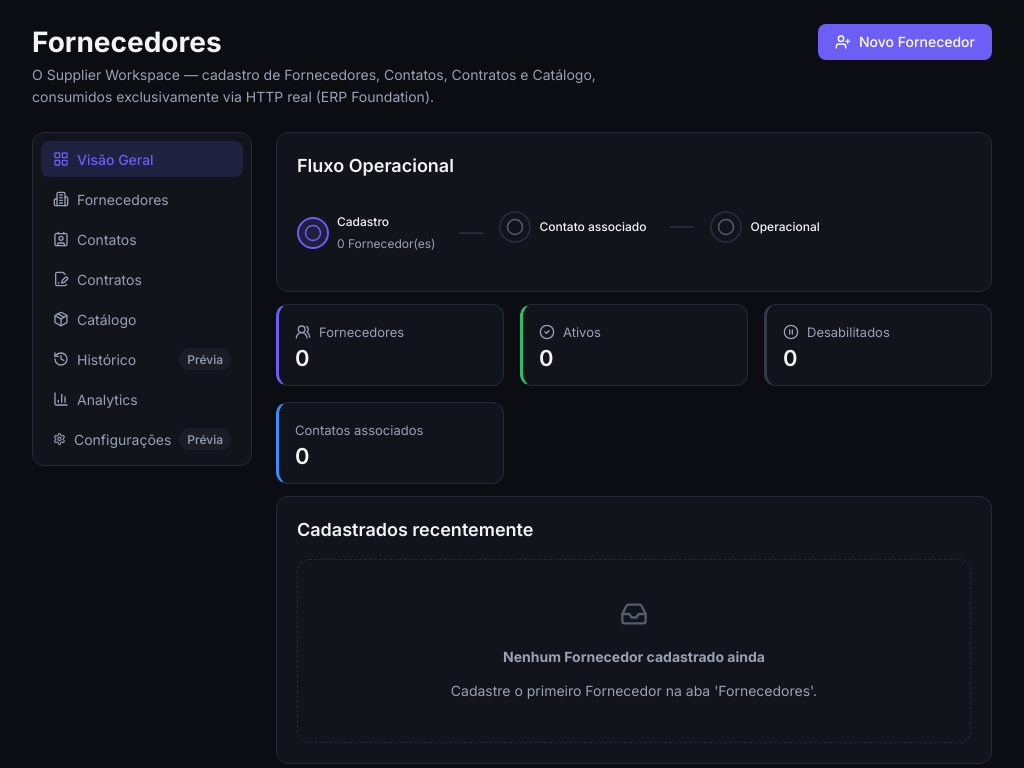
Test: SupplierPage — Supplier Workspace por seções (IMP-205) › associa um Contato real a um Fornecedor — aparece na aba Contatos
This screenshot has width=1024, height=768.
Expected: the button "Visão Geral" is shown, [41,141,243,177]
Click the button "Novo Fornecedor": (905, 42) [818,24,992,60]
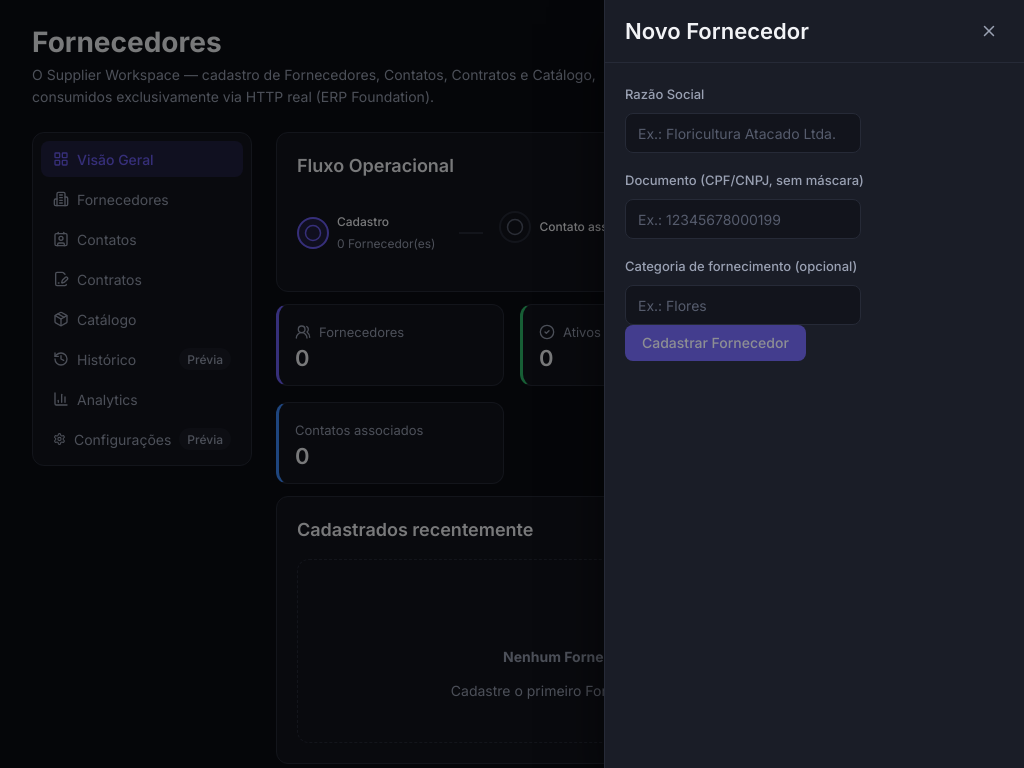
In the field labelled "Razão Social": (743, 133) [625,113,861,153], type "Floricultura Atacado Ltda."
In the field labelled "Documento (CPF/CNPJ, sem máscara)": (743, 219) [625,199,861,239], type "12345678000199"
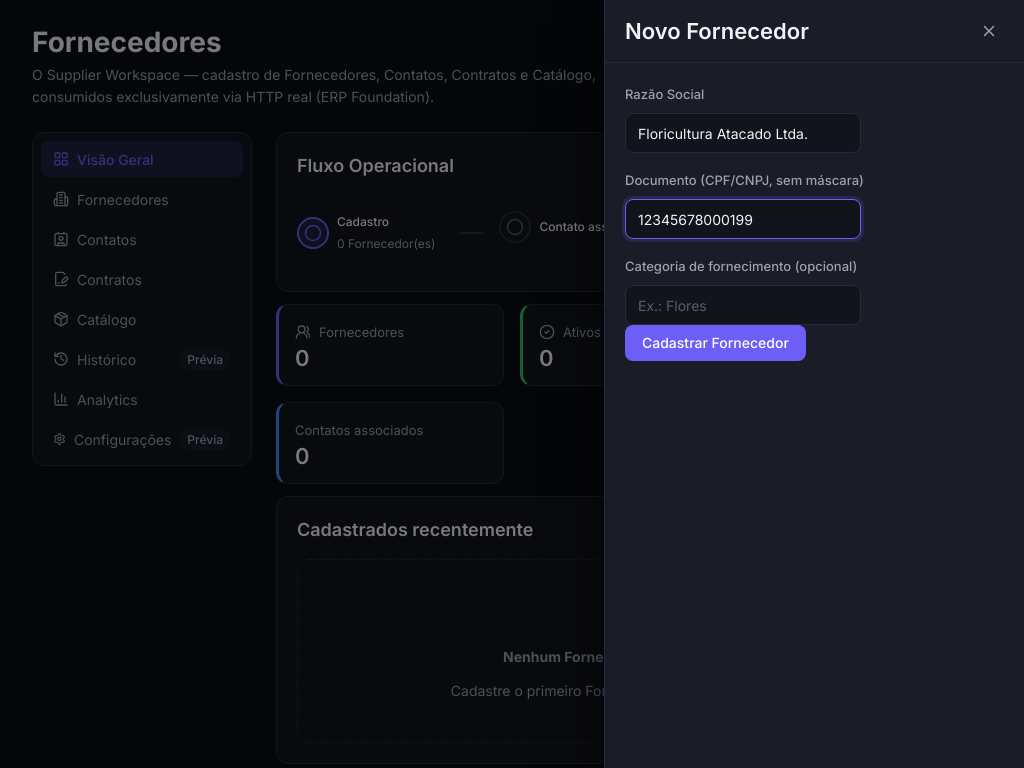
Click the button "Cadastrar Fornecedor": (715, 343) [625,325,806,361]
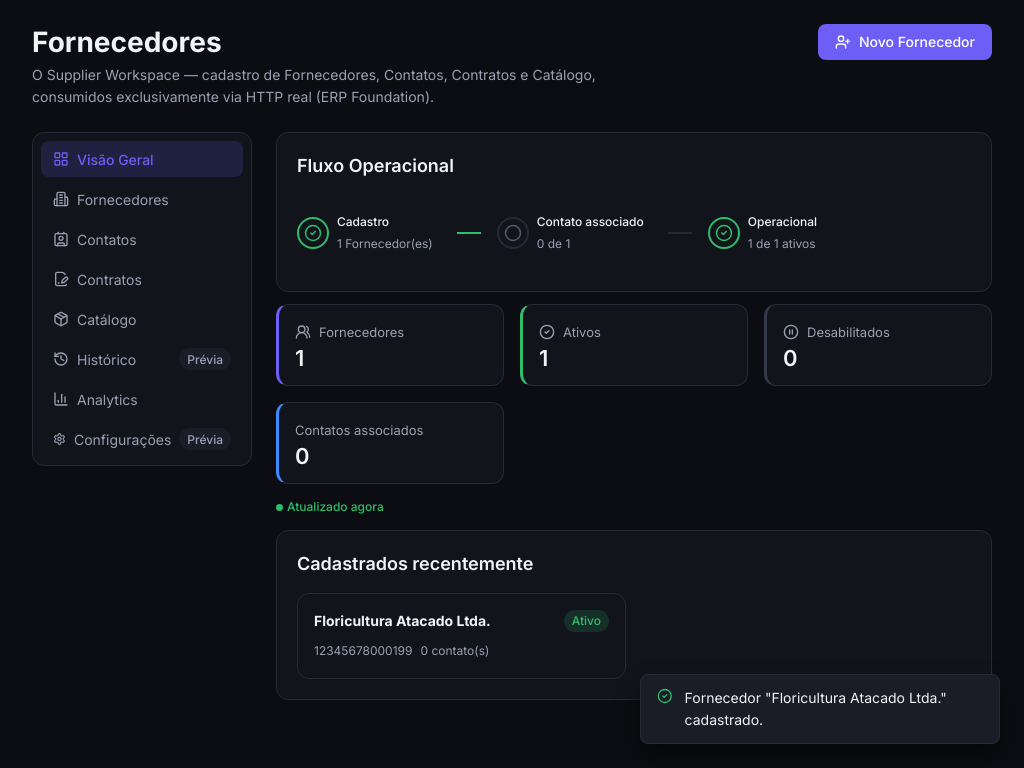
Expected: the text "Floricultura Atacado Ltda." is shown, [314,610,491,632]
Click the button "Contatos": (142, 239) [41,221,243,257]
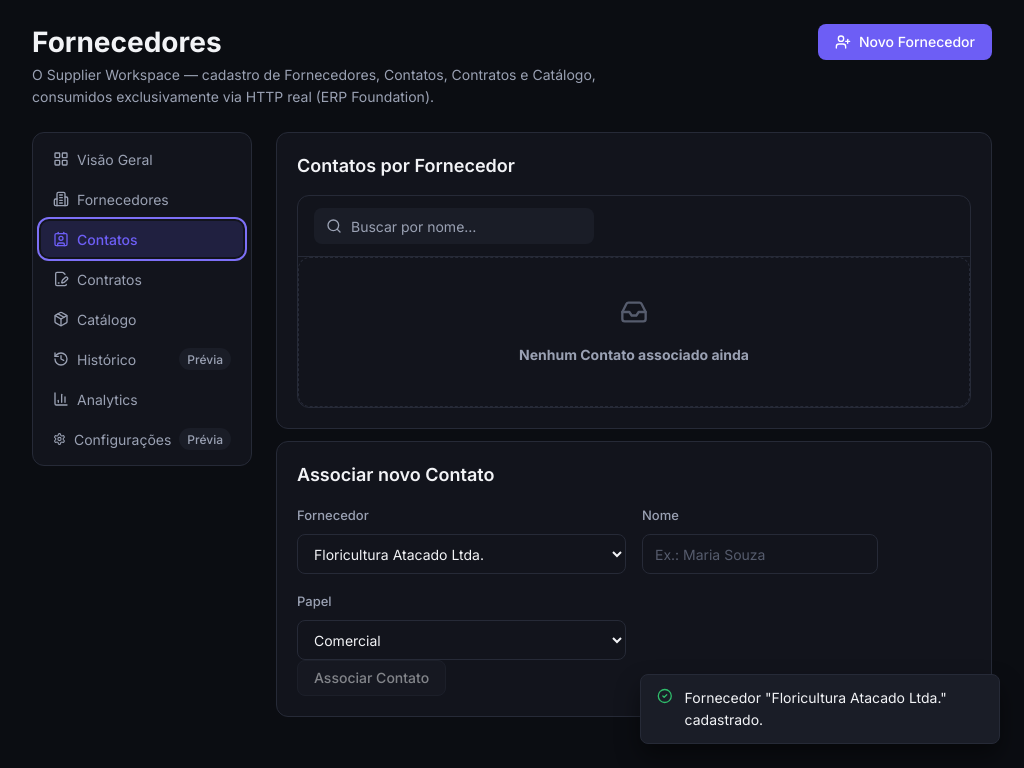
In the field labelled "Nome": (760, 554) [642,534,878,574], type "Maria Souza"
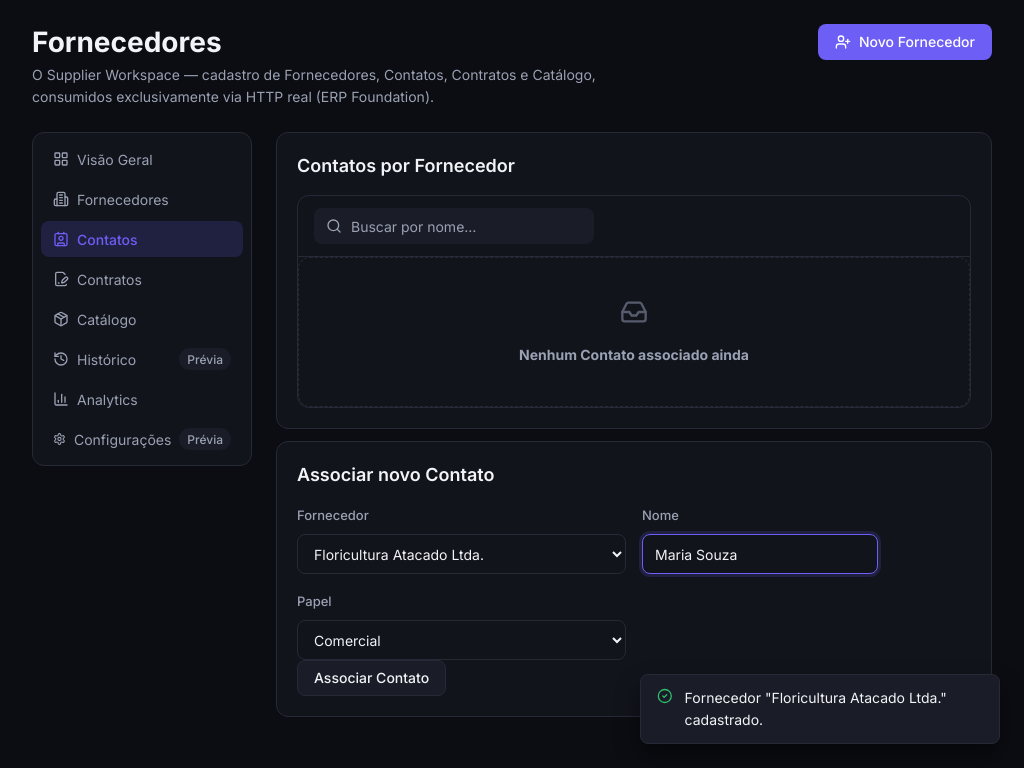
Click the button "Associar Contato": (372, 678) [297,660,446,696]
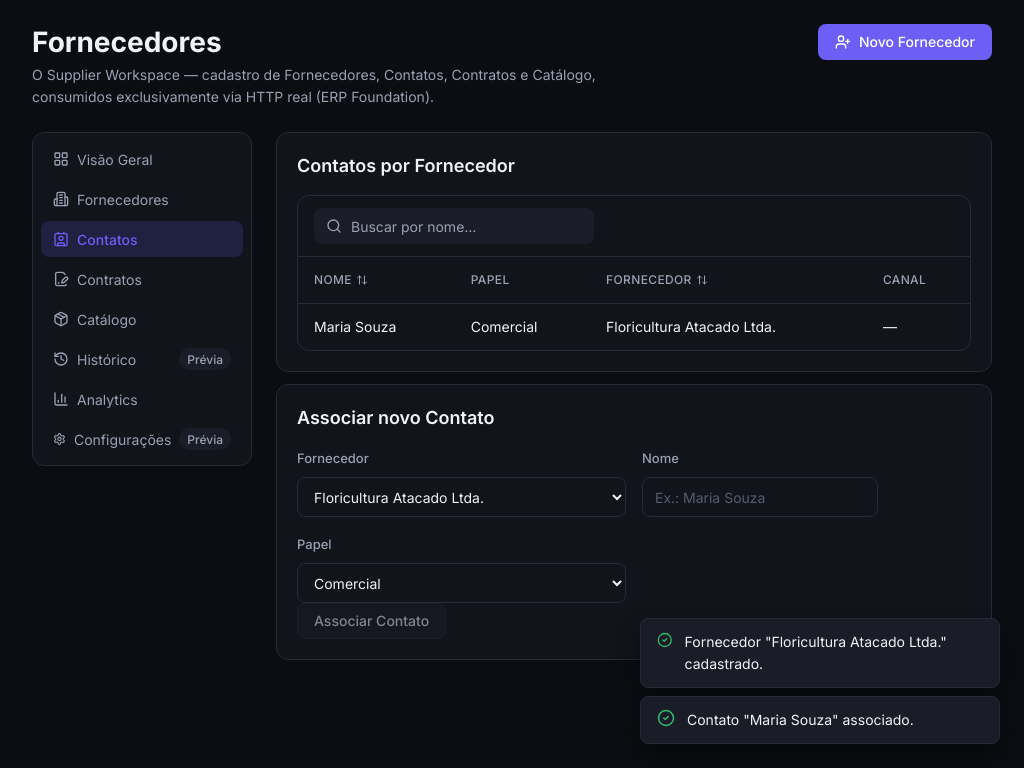
Expected: the text "Maria Souza" is shown, [298,304,455,350]
